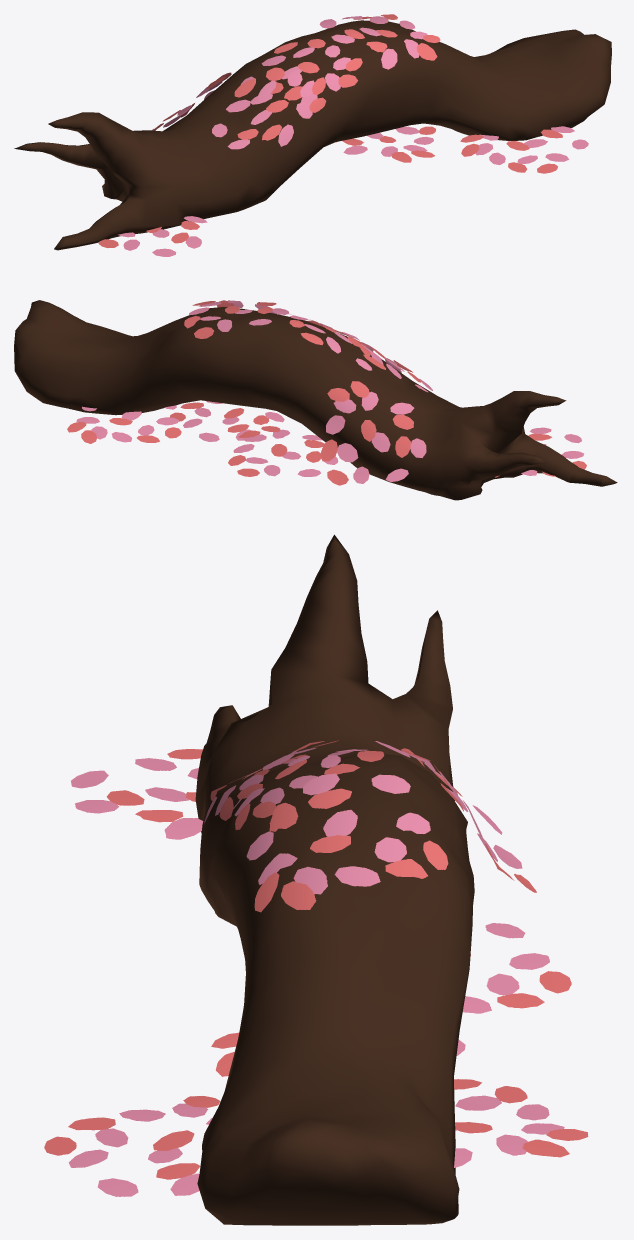
The model's file is BK_TreeFallen_01.fbx.
The picture shows the model from 3 angles, top to bottom: view 1: azimuth 30°, elevation 25°; view 2: azimuth 150°, elevation 25°; view 3: azimuth 270°, elevation 25°; orthographic projection. The views are drawn at different scales.
Parts seen in each view (by area): view 1: petals_low.003; view 2: petals_low.003; view 3: petals_low.003.
Part boxes in pixels (bbox=[...]): petals_low.003: bbox=[14, 14, 611, 256]; petals_low.003: bbox=[14, 300, 617, 500]; petals_low.003: bbox=[44, 534, 588, 1225].
Size of the model in its own units: 490 by 98.49 by 224.
